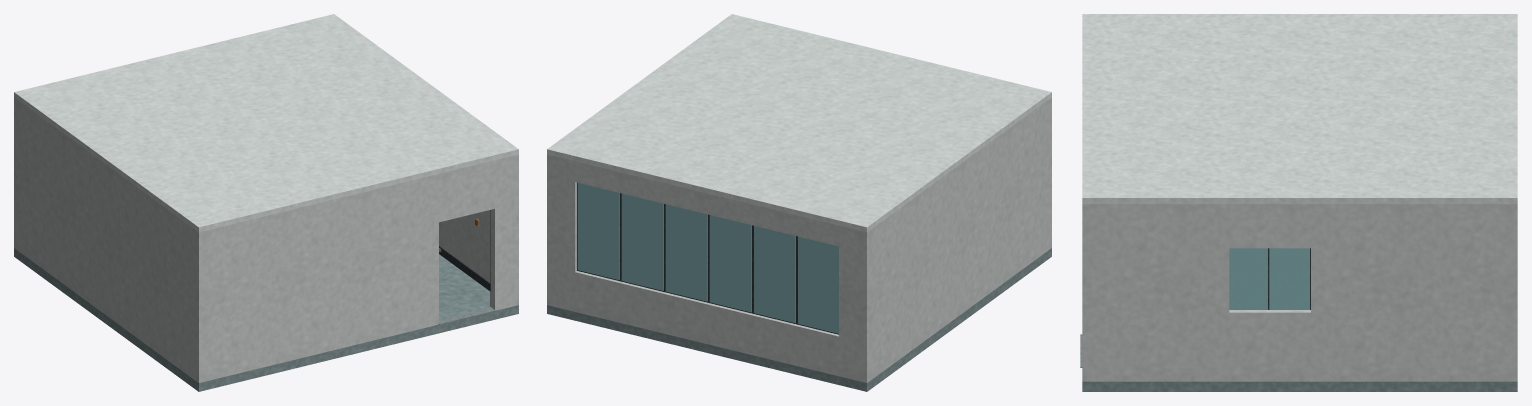
The picture shows the model from 3 angles, left to right: view 1: azimuth 30°, elevation 25°; view 2: azimuth 150°, elevation 25°; view 3: azimuth 270°, elevation 25°; orthographic projection. The views are drawn at different scales.
Visible parts, largest first — view 1: VIS_Acoustic_CUT, VIS_Plaster_CUT, VIS_Plaster, VIS_VinylFloor, VIS_Graphite; view 2: VIS_Acoustic_CUT, VIS_Plaster, VIS_Glass, VIS_VinylFloor, VIS_Graphite, VIS_Plaster_CUT; view 3: VIS_Acoustic_CUT, VIS_Plaster, VIS_Glass, VIS_VinylFloor, VIS_Plaster_CUT.
Part boxes in pixels (bbox=[...]): VIS_Acoustic_CUT: bbox=[14, 14, 518, 232]; VIS_Plaster_CUT: bbox=[194, 155, 518, 382]; VIS_Plaster: bbox=[14, 97, 518, 382]; VIS_VinylFloor: bbox=[14, 248, 518, 391]; VIS_Graphite: bbox=[439, 210, 490, 306]; VIS_Acoustic_CUT: bbox=[547, 14, 1051, 232]; VIS_Plaster: bbox=[547, 100, 1051, 382]; VIS_Glass: bbox=[577, 183, 838, 333]; VIS_VinylFloor: bbox=[547, 248, 1051, 391]; VIS_Graphite: bbox=[577, 182, 838, 334]; VIS_Plaster_CUT: bbox=[1047, 97, 1051, 250]; VIS_Acoustic_CUT: bbox=[1082, 14, 1517, 203]; VIS_Plaster: bbox=[1082, 204, 1517, 381]; VIS_Glass: bbox=[1229, 248, 1309, 309]; VIS_VinylFloor: bbox=[1082, 381, 1517, 391]; VIS_Plaster_CUT: bbox=[1082, 204, 1091, 381].
Bounding box in the file's own units: 8 × 3.93 × 8.03.
Materials: 12 (12 with a texture image).
